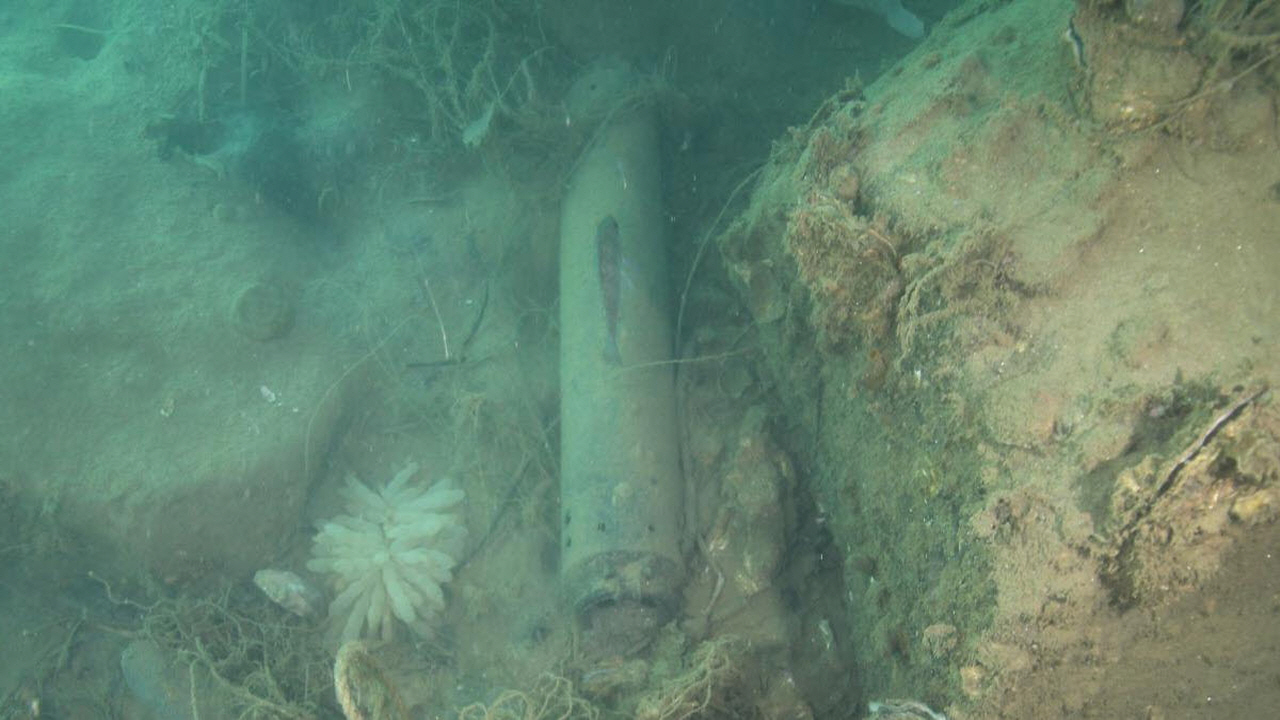eel fish trap: (555, 54, 689, 627)
rope: (332, 639, 408, 720)
